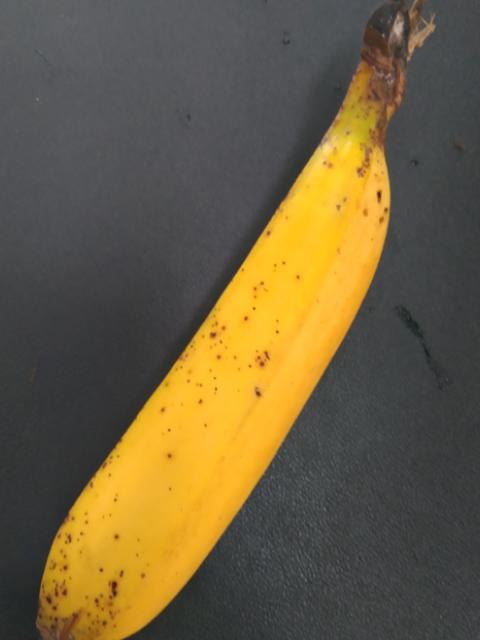ripe: (0, 136, 408, 639)
